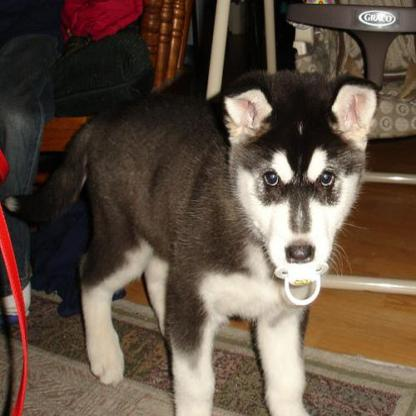malamute: (2, 66, 376, 413)
